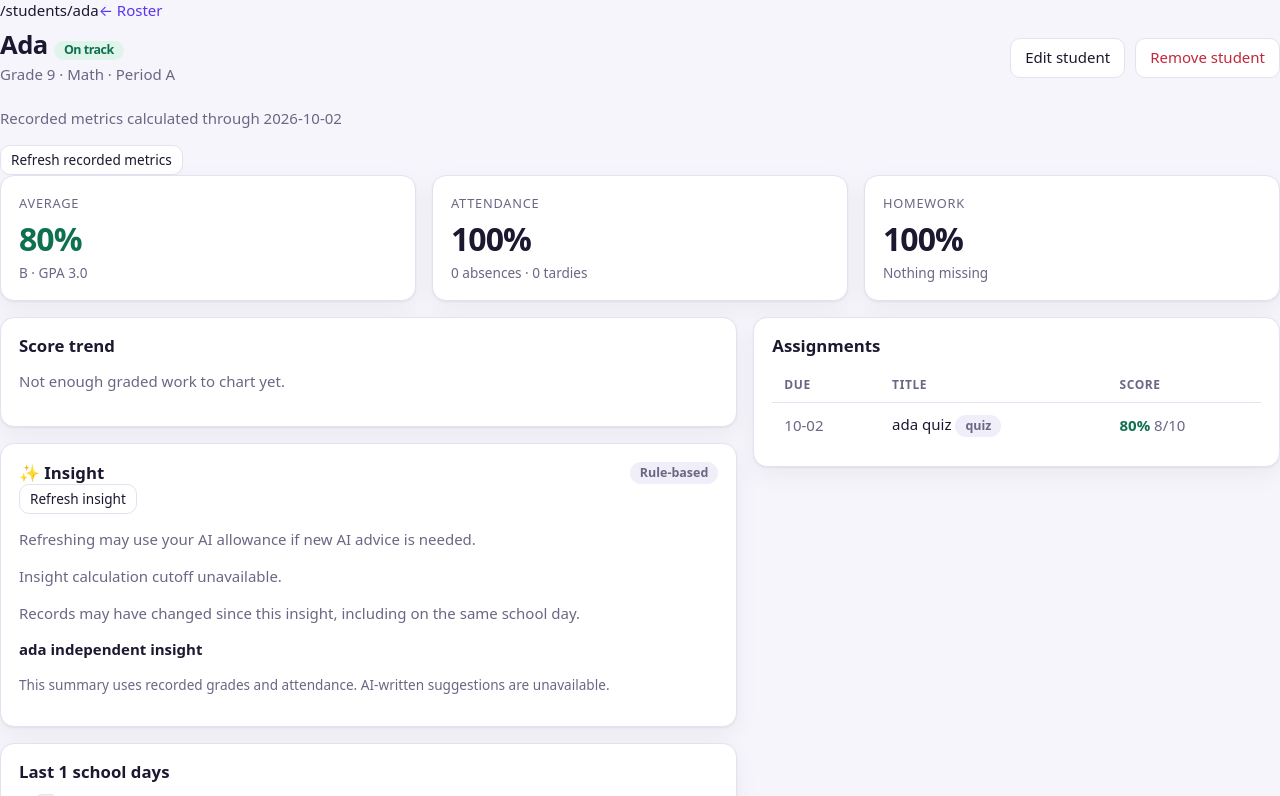
Test case: submitted A failure after B preserves both caches, B editor and route without another submission
The image size is (1280, 796).
Expected: the heading "Ada On track" is shown, [0, 27, 124, 62]
Click the button "Remove student" at (1208, 58), box [1135, 38, 1279, 78]
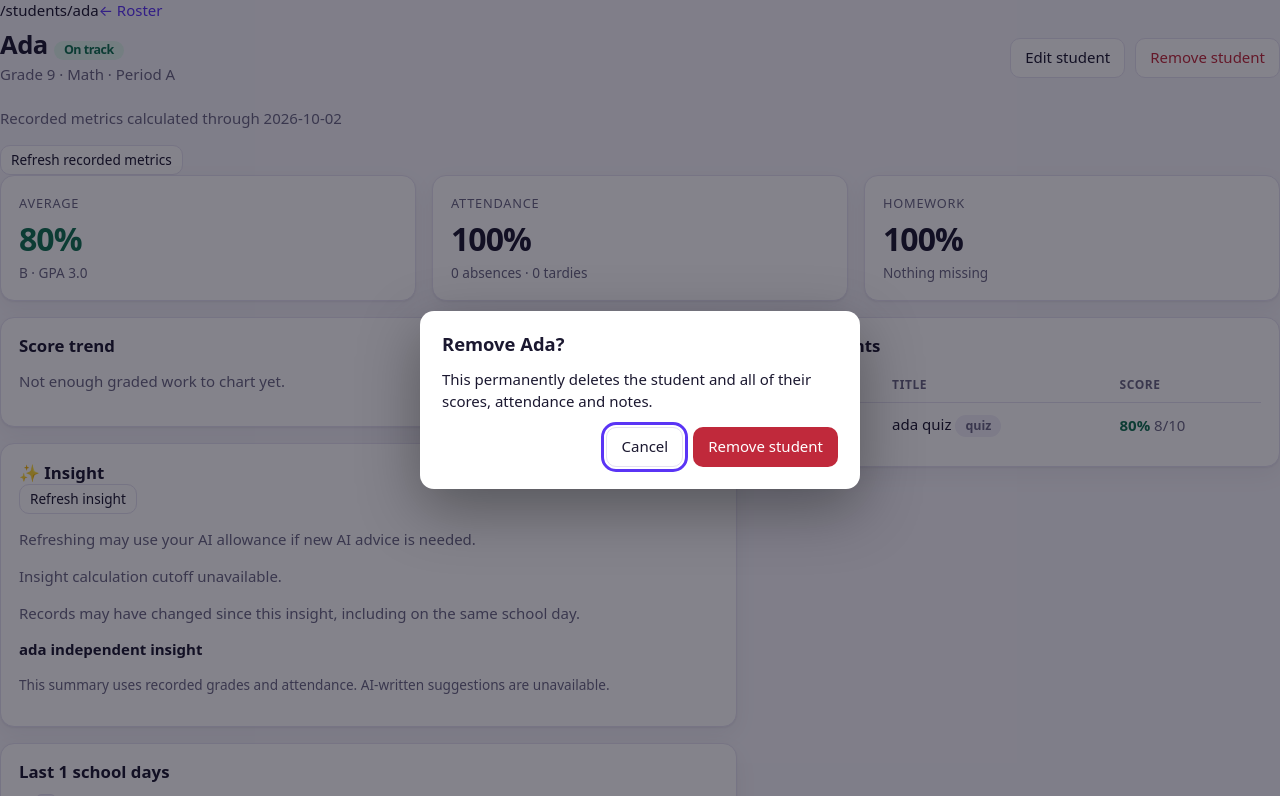
Expected: the dialog "Remove Ada?" shows "This permanently deletes the student and all of their scores, attendance and notes.", [442, 369, 811, 411]
Click the button "Remove student" at (766, 447), box [693, 427, 838, 467]
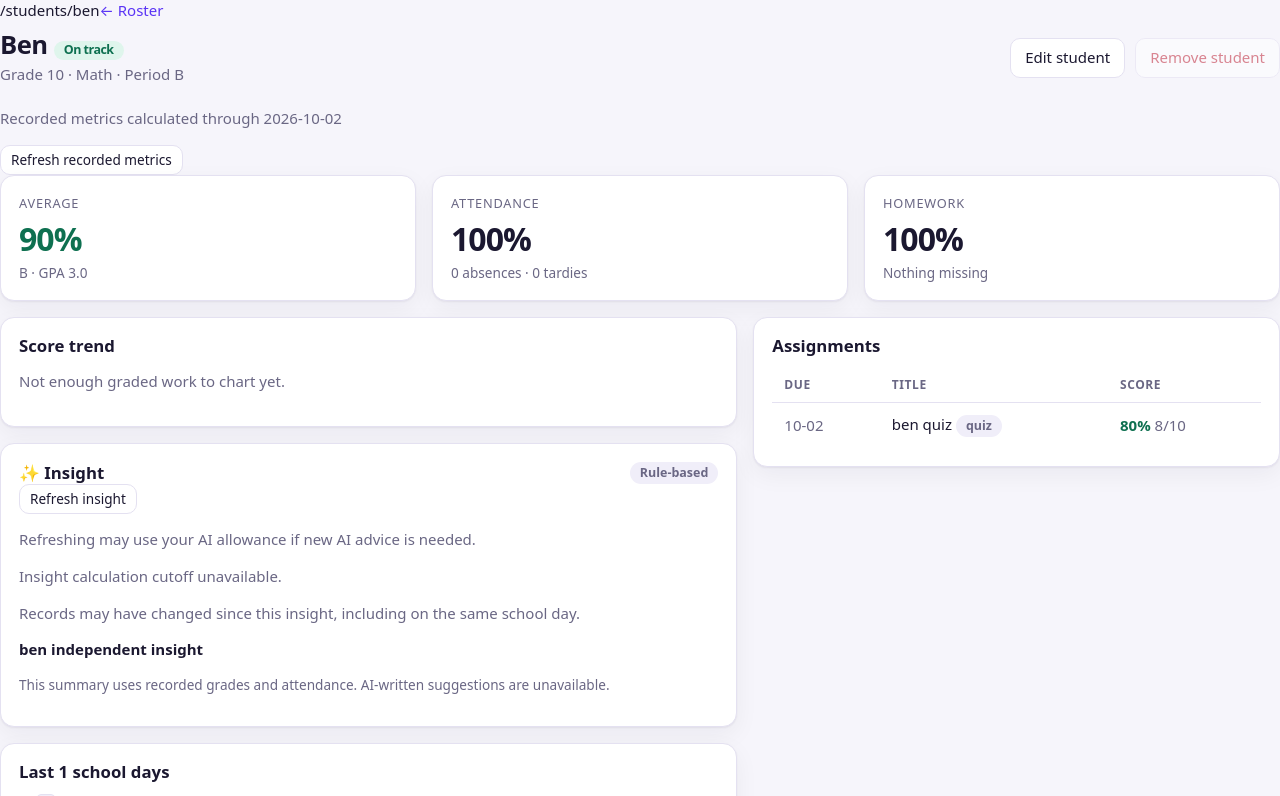
Expected: the heading "Ben On track" is shown, [0, 27, 124, 62]
Click the button "Edit student" at (1068, 58), box [1010, 38, 1125, 78]
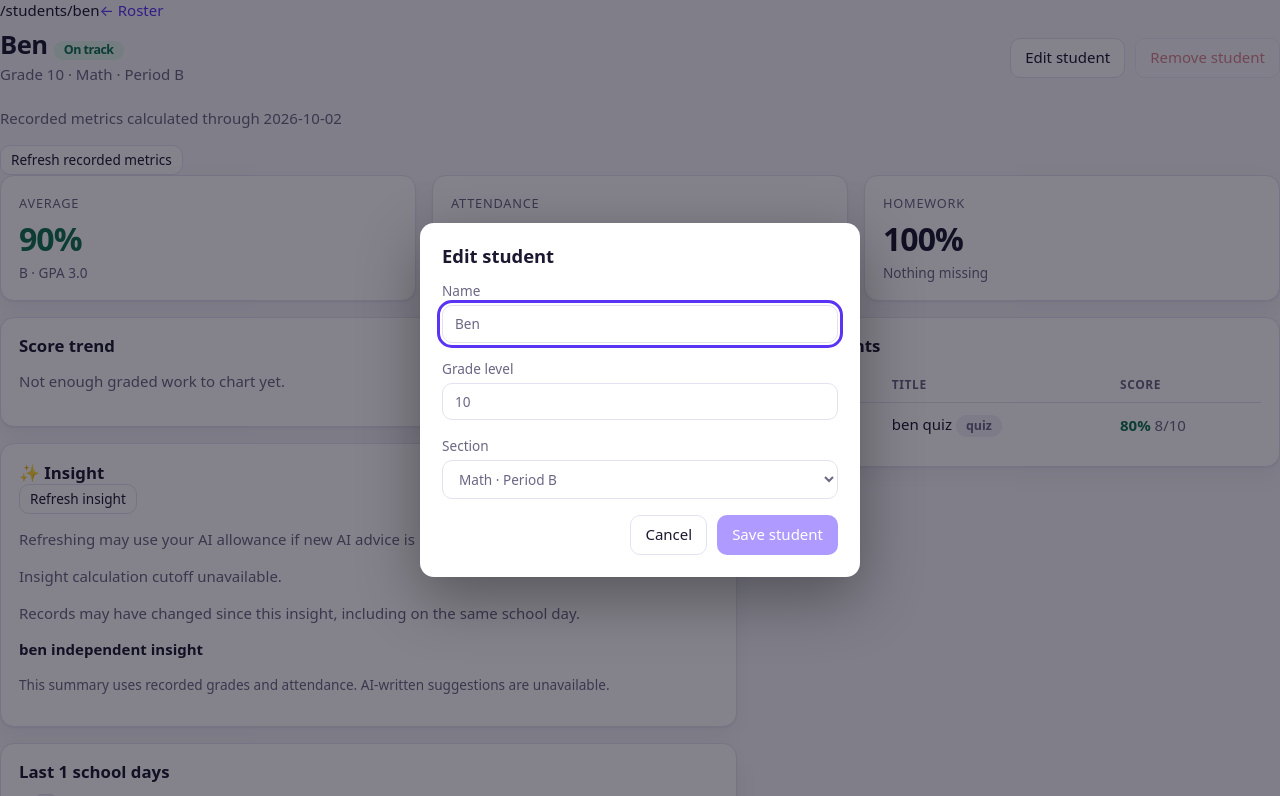
Replace the text in the field labelled "Name" with "Ben failure draft" at (640, 324), box [442, 305, 838, 343]
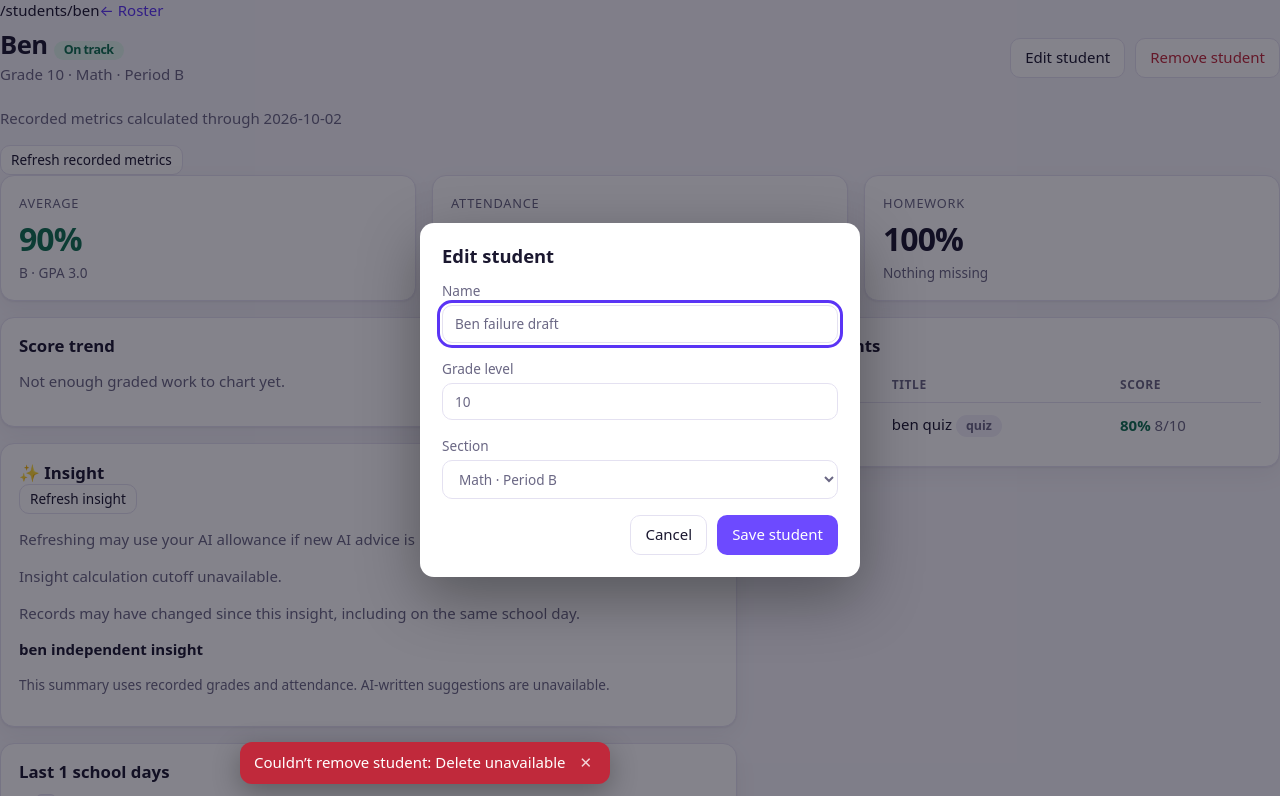
Expected: the text named "Current route" reads "/students/ben", [0, 0, 100, 20]
Expected: the text "Couldn’t remove student: Delete unavailable" is shown, [254, 752, 566, 774]
